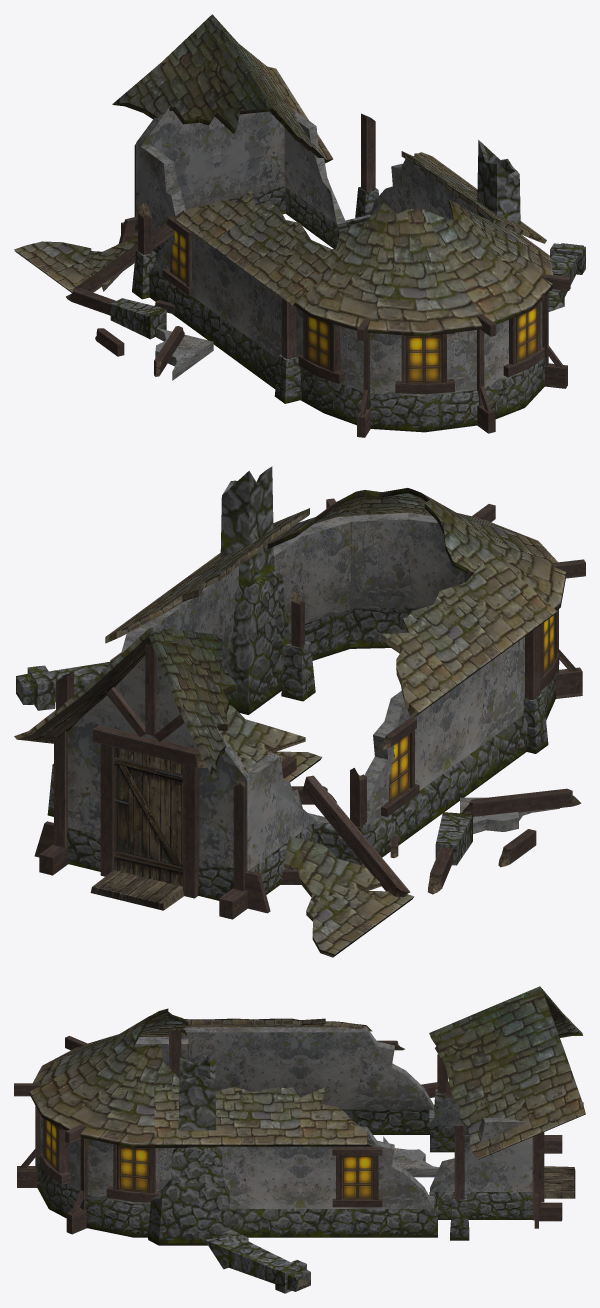
Rendered from KQZD_fangzi_4.FBX.
3 renders of one model, top to bottom at view 1: azimuth 30°, elevation 25°; view 2: azimuth 150°, elevation 25°; view 3: azimuth 270°, elevation 25°, orthographic. The views are drawn at different scales.
Visible parts, largest first — view 1: KQZD_fangzi_4; view 2: KQZD_fangzi_4; view 3: KQZD_fangzi_4.
Part boxes in pixels (<box>): KQZD_fangzi_4: <box>14,14,585,437</box>; KQZD_fangzi_4: <box>14,466,585,957</box>; KQZD_fangzi_4: <box>14,986,585,1293</box>.
Bounding box in the file's own units: 1069 × 1266 × 493.
